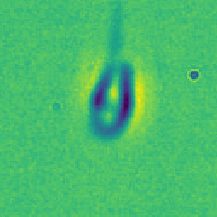normal: (100, 1, 137, 58)
